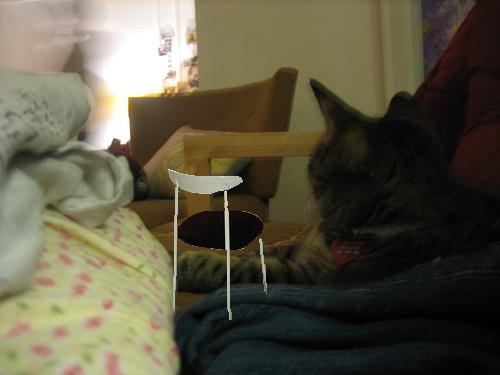tampered: (169, 170, 267, 320)
